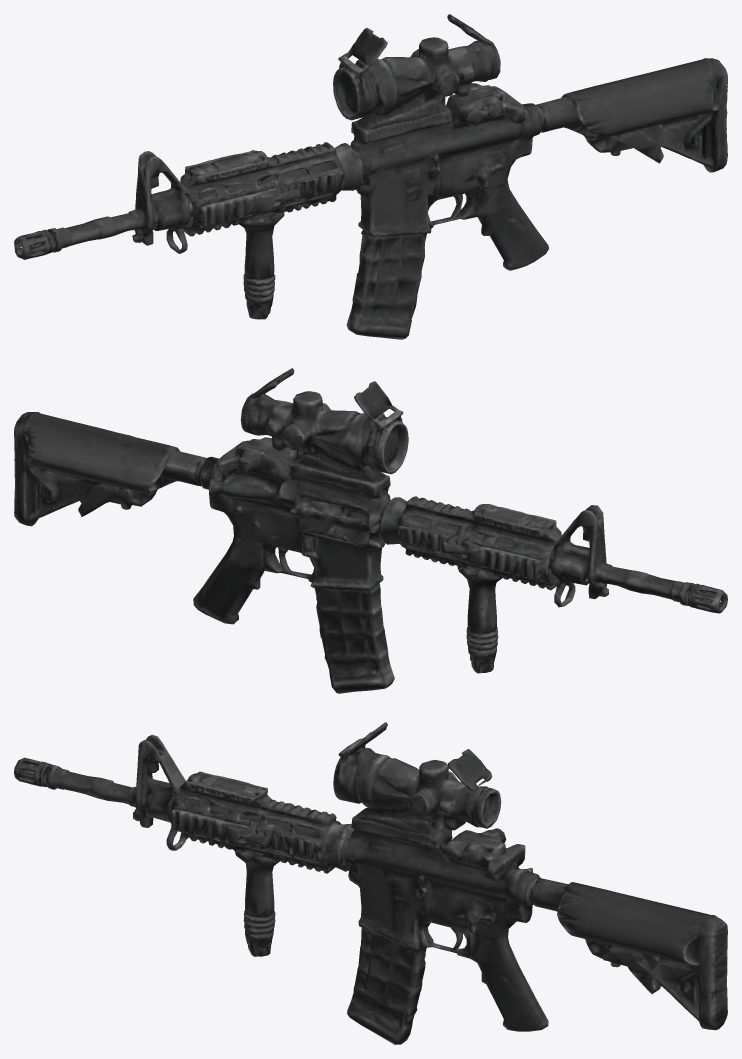
The picture shows the model from 3 angles, top to bottom: view 1: azimuth 30°, elevation 25°; view 2: azimuth 150°, elevation 25°; view 3: azimuth 330°, elevation 25°; orthographic projection.
Size of the model in its own units: 1.9 by 0.7965 by 0.1694.
1 material, 1 textured.
